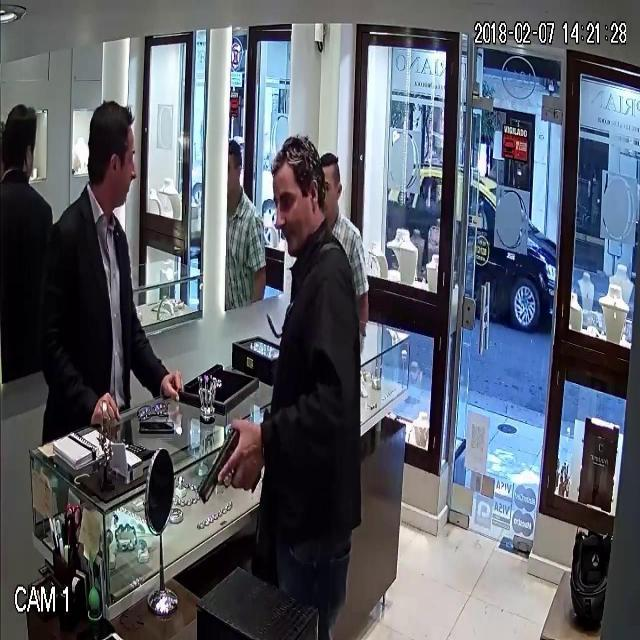weapon: (190, 402, 265, 514)
